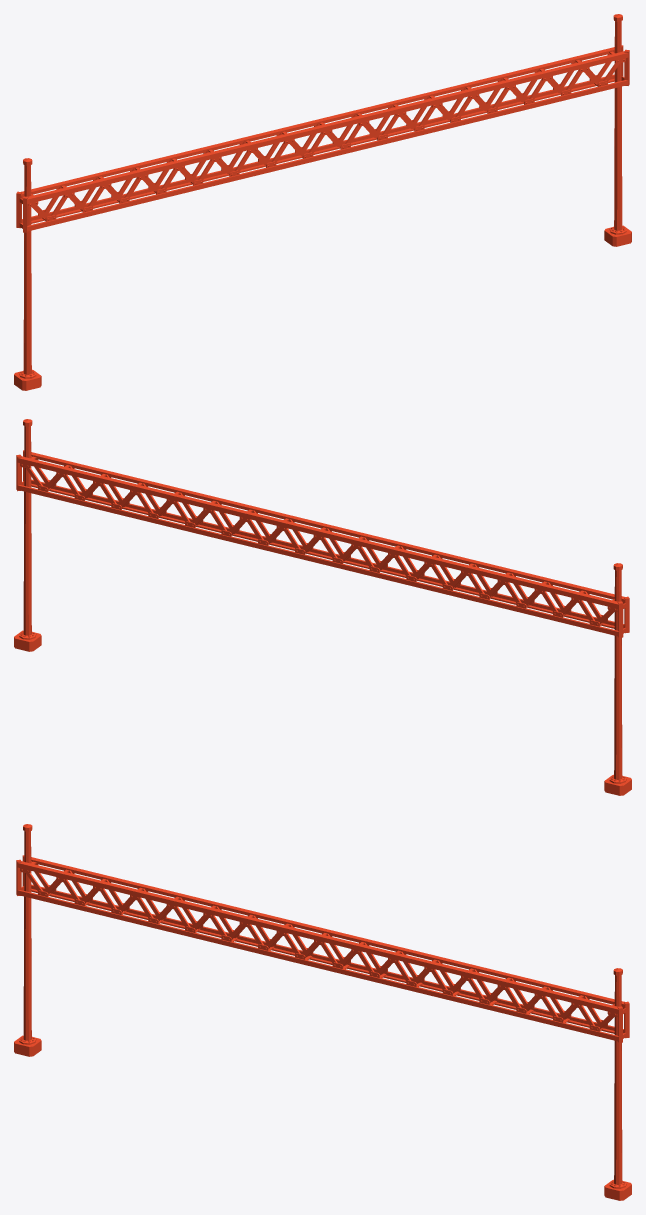
The model's file is SM_Sign_Gantry_Wide_A_City.fbx.
3 renders of one model, top to bottom at view 1: azimuth 30°, elevation 25°; view 2: azimuth 150°, elevation 25°; view 3: azimuth 330°, elevation 25°, orthographic.
Visible parts, largest first — view 1: SM_Sign_Gantry_Wide_A_City; view 2: SM_Sign_Gantry_Wide_A_City; view 3: SM_Sign_Gantry_Wide_A_City.
Boxes of the visible parts, box(x1,y1,x2,y2) form: SM_Sign_Gantry_Wide_A_City: box(14, 14, 631, 390); SM_Sign_Gantry_Wide_A_City: box(14, 419, 631, 795); SM_Sign_Gantry_Wide_A_City: box(14, 824, 631, 1200).
Bounding box in the file's own units: 26.85 × 9.5 × 0.8509.
